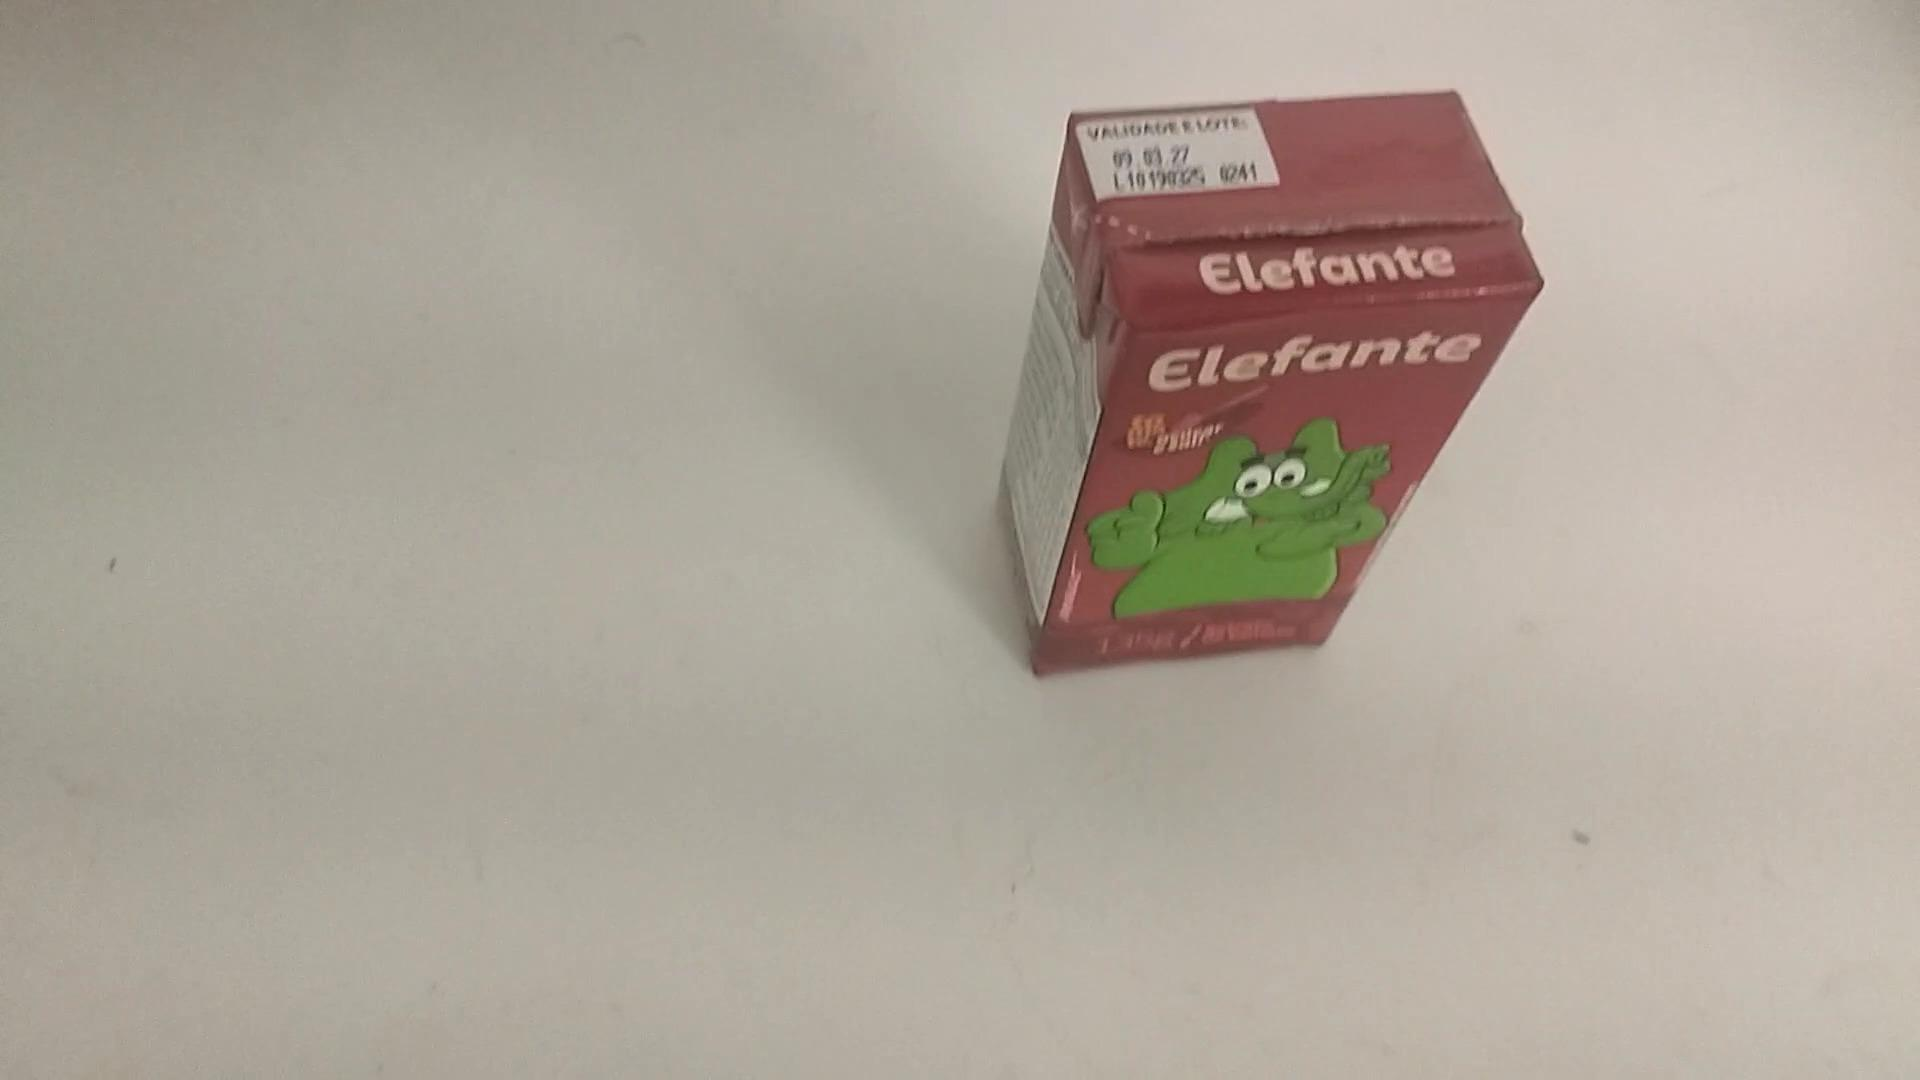tomate: (986, 84, 1555, 699)
